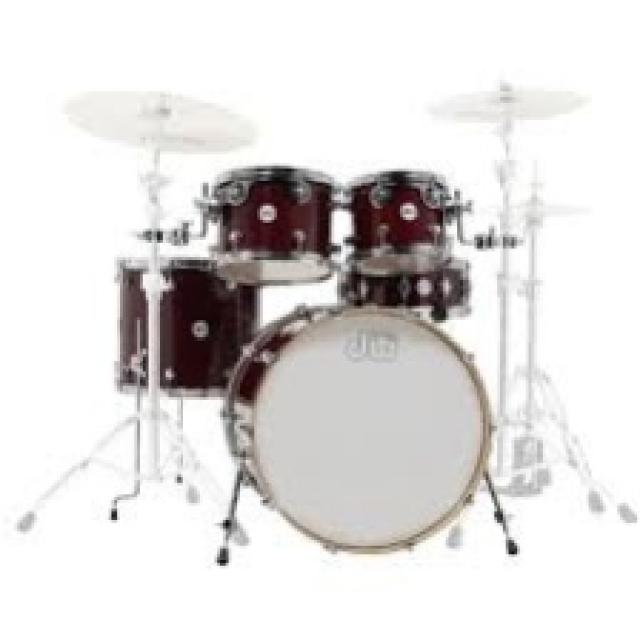drums: (14, 86, 640, 594)
